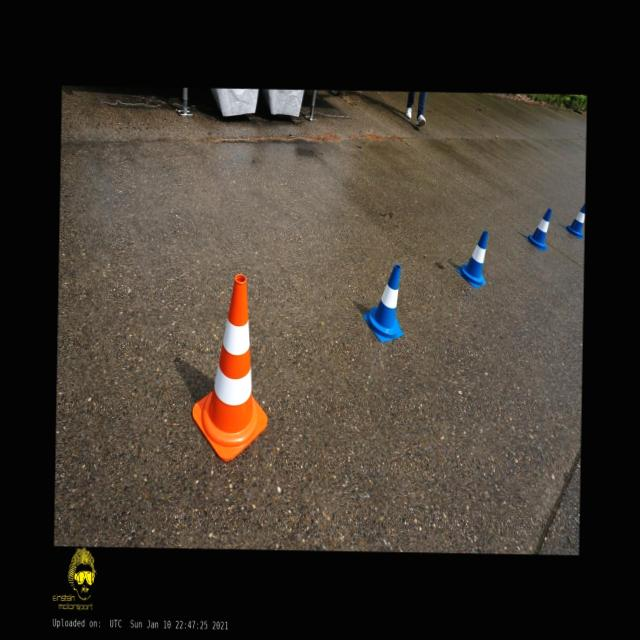blue_cone: (362, 264, 405, 344), (456, 230, 487, 288), (526, 209, 552, 251), (564, 201, 584, 238)
large_orange_cone: (191, 273, 270, 462)
